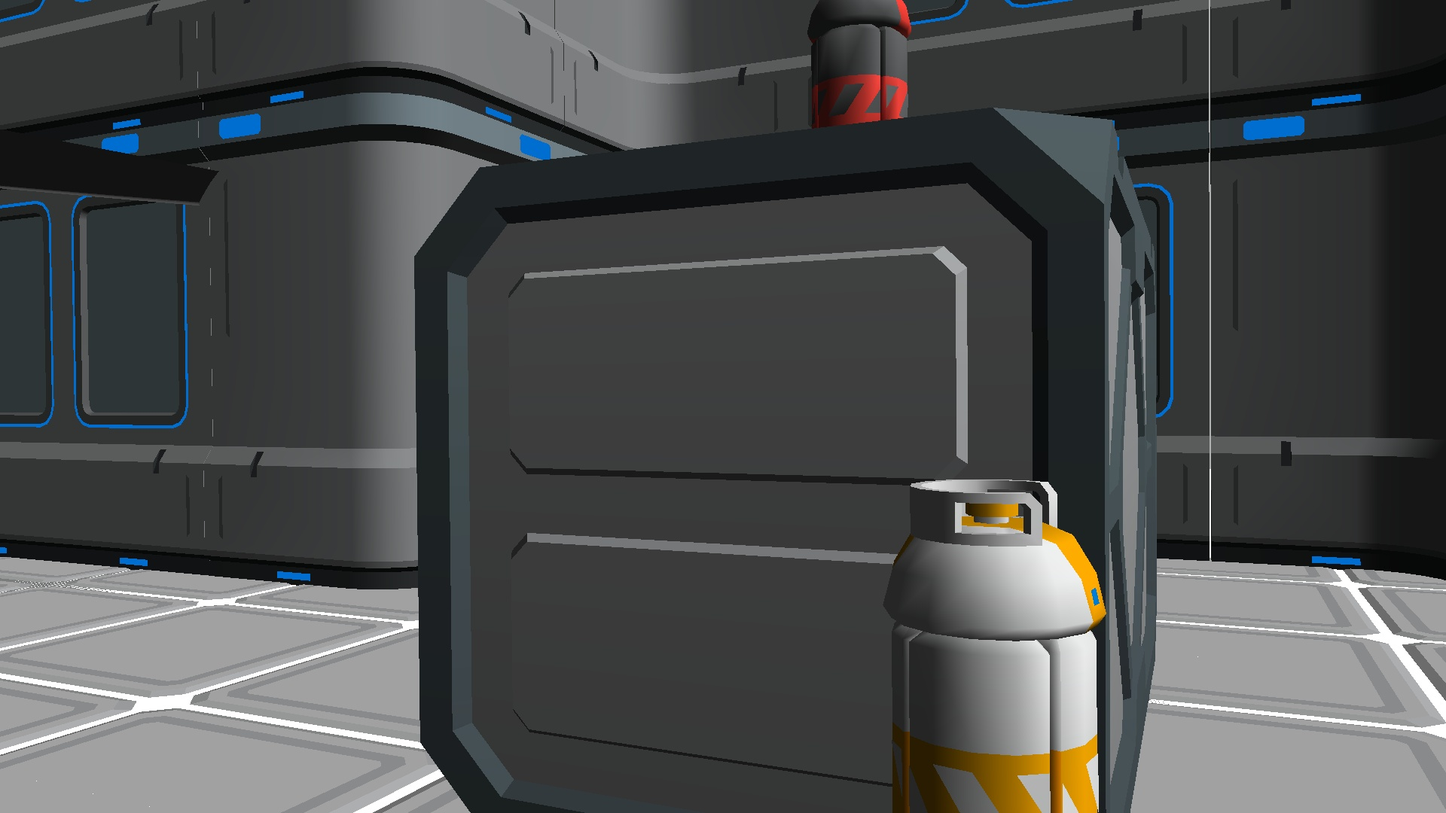red barrel: (807, 0, 911, 129)
yellow barrel: (882, 480, 1107, 813)
